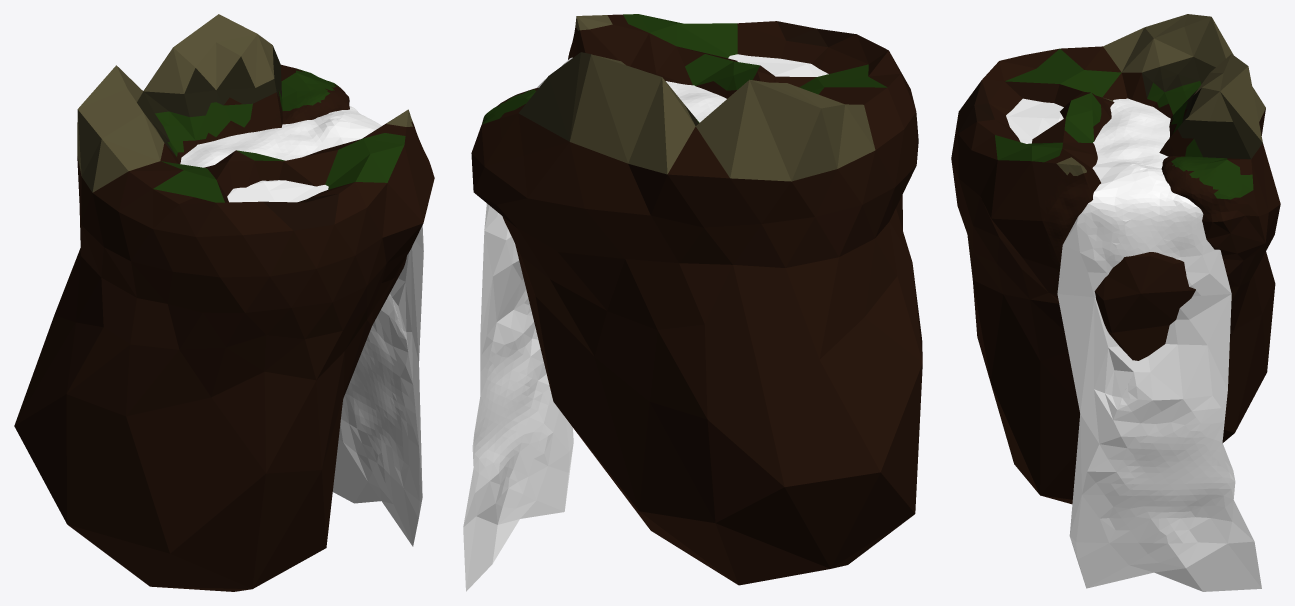
Rendered from mountain1.fbx.
The picture shows the model from 3 angles, left to right: view 1: azimuth 30°, elevation 25°; view 2: azimuth 150°, elevation 25°; view 3: azimuth 270°, elevation 25°; orthographic projection. The views are drawn at different scales.
Parts seen in each view (by area): view 1: Plane; view 2: Plane; view 3: Plane.
Boxes of the visible parts, <box> form: Plane: <box>14,14,434,591</box>; Plane: <box>463,14,922,591</box>; Plane: <box>951,14,1280,591</box>.
Size of the model in its own units: 25.66 by 34.53 by 21.71.
